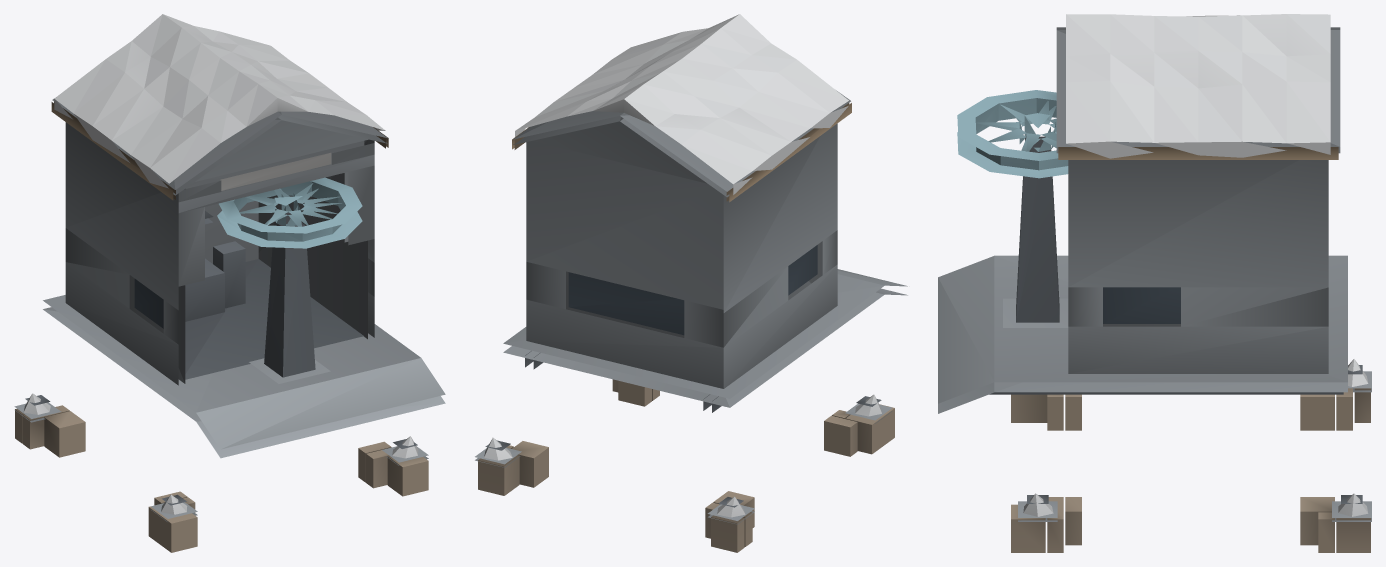
Rendered from top.lod.glb.
3 renders of one model, left to right at view 1: azimuth 30°, elevation 25°; view 2: azimuth 150°, elevation 25°; view 3: azimuth 270°, elevation 25°, orthographic. The views are drawn at different scales.
Visible parts, largest first — view 1: top; view 2: top; view 3: top.
Part boxes in pixels (x1,y1,x2,y2): top: [14, 14, 445, 552]; top: [475, 14, 907, 552]; top: [938, 14, 1371, 552].
Size of the model in its own units: 9.6 by 14.27 by 12.
